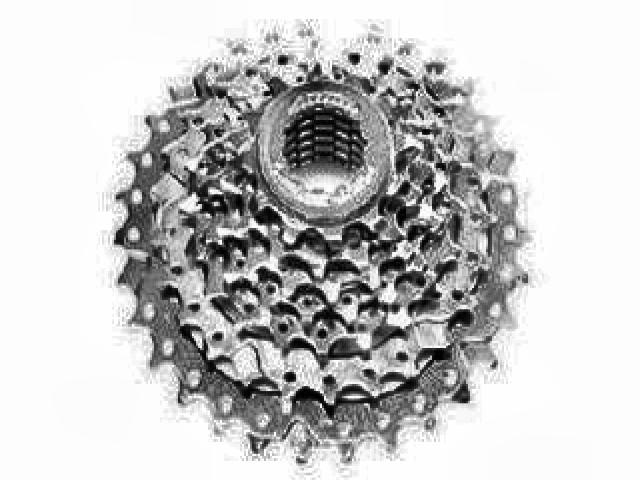cassette: (111, 25, 536, 466)
